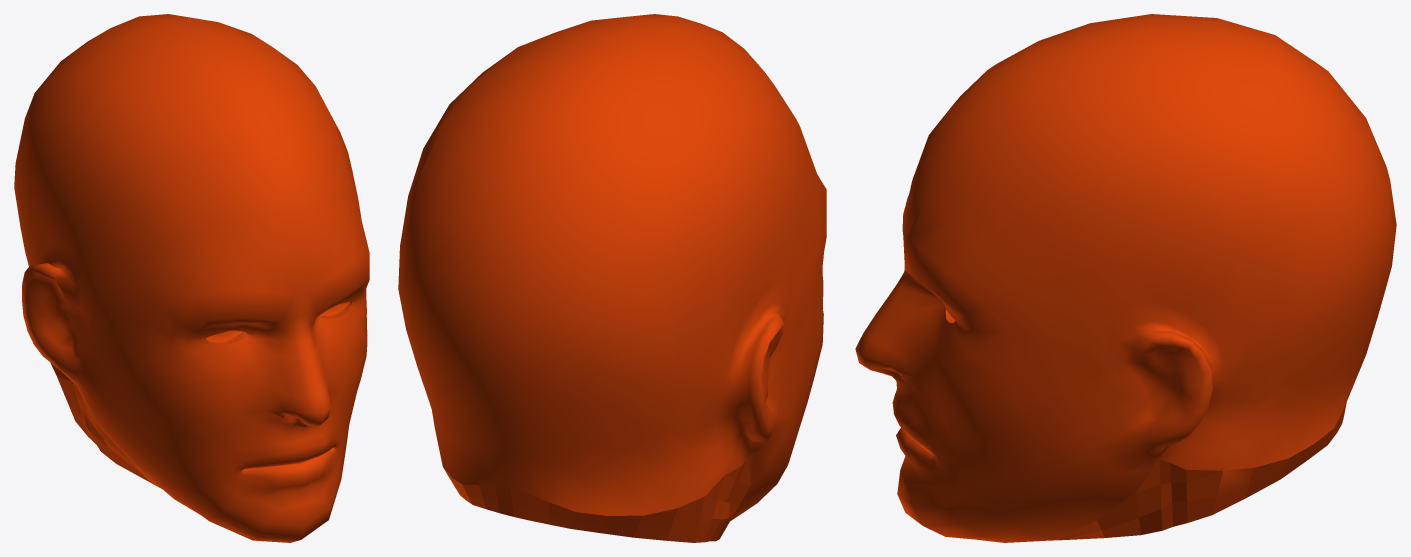
3 views of the same model, side by side, from view 1: azimuth 30°, elevation 25°; view 2: azimuth 150°, elevation 25°; view 3: azimuth 270°, elevation 25° (orthographic). The views are drawn at different scales.
Visible parts, largest first — view 1: Object001; view 2: Object001; view 3: Object001.
Boxes of the visible parts, x1,y1,x2,y2 form: Object001: [14, 14, 369, 542]; Object001: [398, 14, 826, 542]; Object001: [855, 14, 1396, 542].
Bounding box in the file's own units: 17.09 × 23.8 × 24.54.
